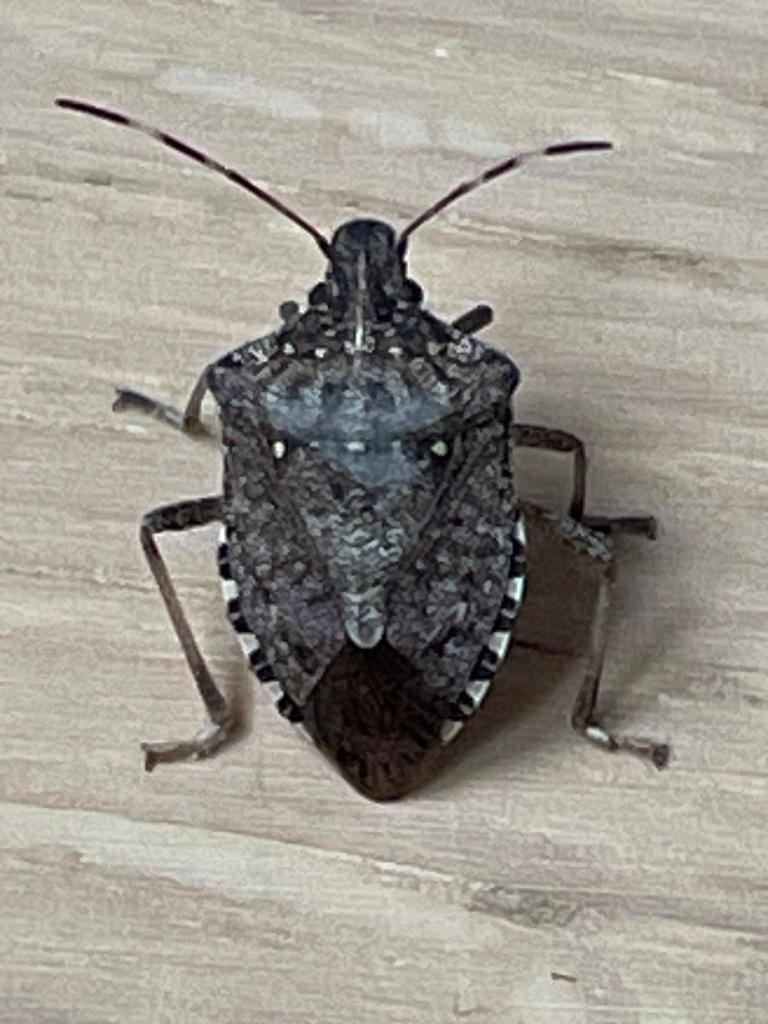stink_bugs: (0, 0, 768, 925)
